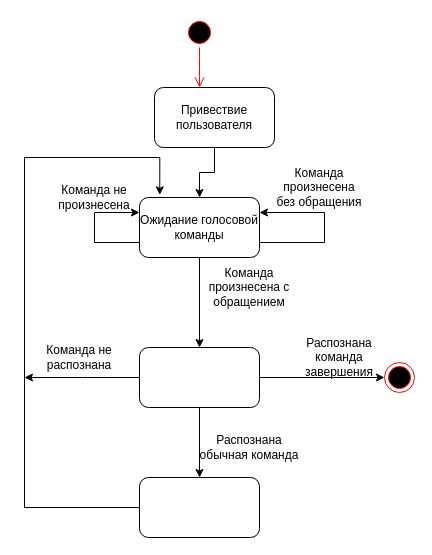
Image size: 432x555. Some labels were removed from this diagram. The shapes that lost their labels are listed below. From the top down, each one's centre as x and y in pixels, then its label:
At point 199,377: "Распознание команды".
At point 199,507: "Выполнение соответсвующих функций".
